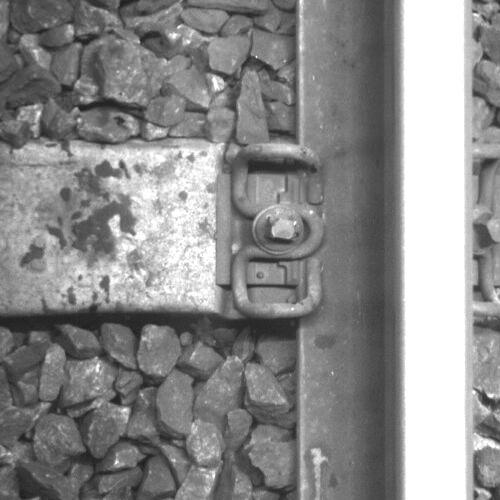rail: (396, 1, 473, 500)
tie_concr: (1, 148, 294, 315)
vossloh: (218, 142, 327, 322)
